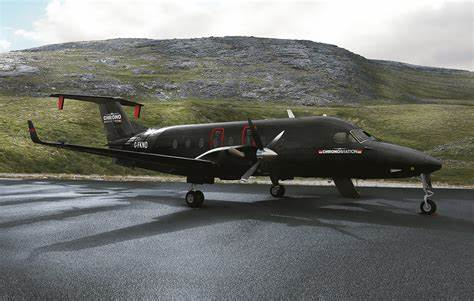Aeronef_commercial: (22, 87, 455, 223)
